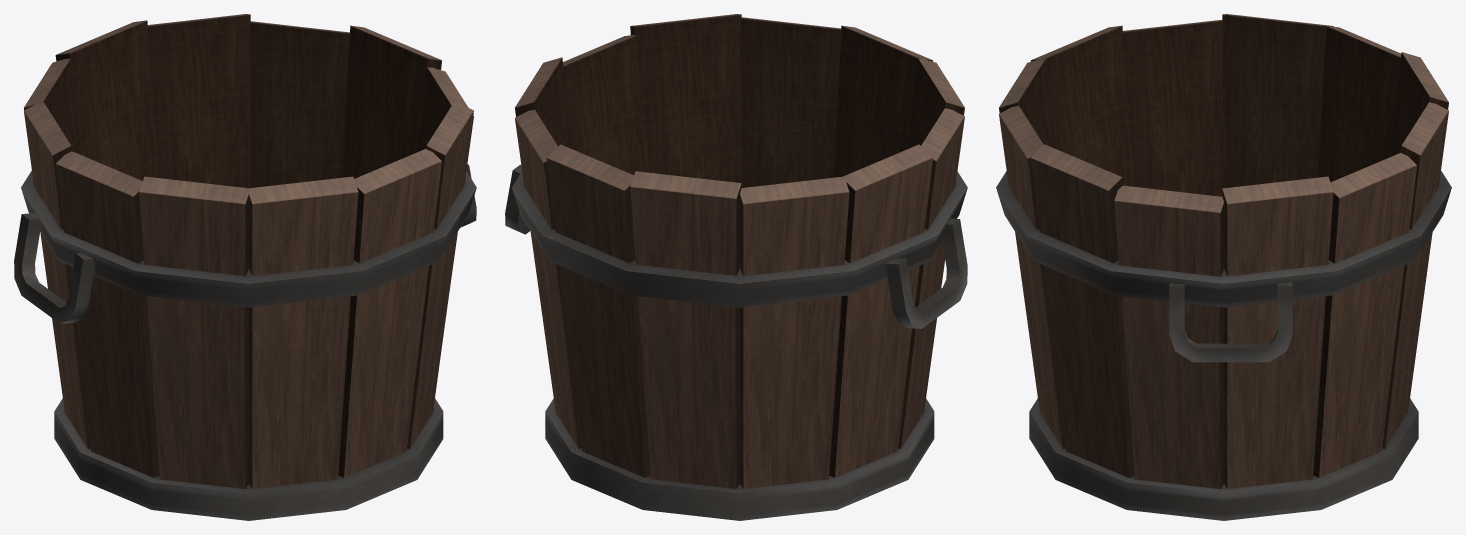
File: BO_Sin1_DyeTube.FBX
3 views of the same model, side by side, from view 1: azimuth 30°, elevation 25°; view 2: azimuth 150°, elevation 25°; view 3: azimuth 270°, elevation 25° (orthographic).
Parts seen in each view (by area): view 1: BO_Sin1_DyeTube; view 2: BO_Sin1_DyeTube; view 3: BO_Sin1_DyeTube.
Part boxes in pixels (box(x1,y1,x2,y2)): BO_Sin1_DyeTube: box(14, 14, 476, 520); BO_Sin1_DyeTube: box(505, 14, 967, 520); BO_Sin1_DyeTube: box(996, 14, 1451, 520).
Size of the model in its own units: 114 by 90.94 by 110.
